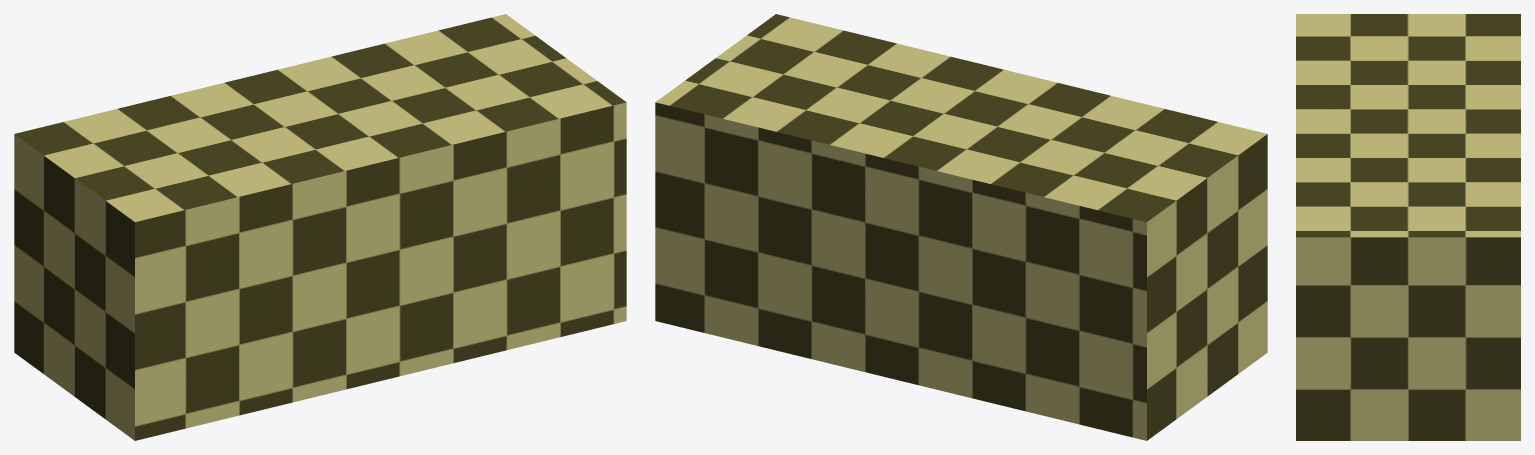
Rendered from cube_single_uv_flipped.fbx.
The picture shows the model from 3 angles, left to right: view 1: azimuth 30°, elevation 25°; view 2: azimuth 150°, elevation 25°; view 3: azimuth 270°, elevation 25°; orthographic projection. The views are drawn at different scales.
Parts seen in each view (by area): view 1: cube; view 2: cube; view 3: cube.
Part boxes in pixels (x1,y1,x2,y2): cube: [14, 14, 626, 440]; cube: [655, 14, 1267, 440]; cube: [1296, 14, 1520, 440].
Bounding box in the file's own units: 10.63 × 4.52 × 4.52.
